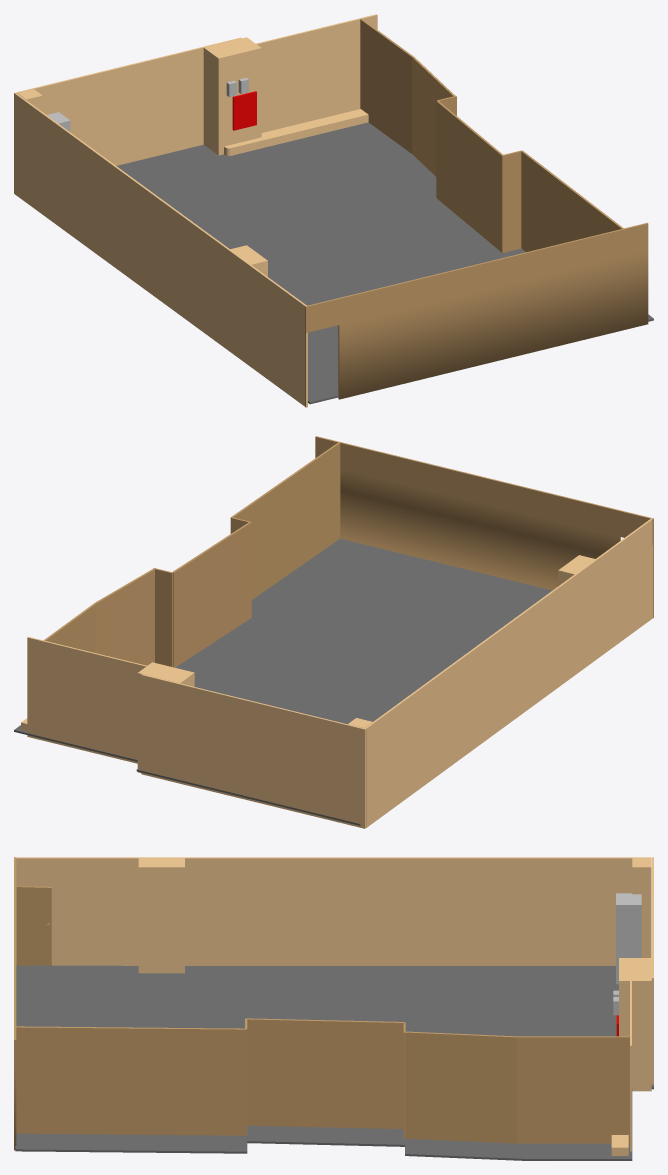
The model's file is office.fbx.
3 renders of one model, top to bottom at view 1: azimuth 30°, elevation 25°; view 2: azimuth 150°, elevation 25°; view 3: azimuth 270°, elevation 25°, orthographic. The views are drawn at different scales.
Visible parts, largest first — view 1: Line001, Box002, Box001, Box003, Box014, Box007, Box009, Box004, Box012, Box005, Rectangle001, Box008 (+1 smaller); view 2: Line001, Box001, Box002, Box003, Box014, Box009, Box007, Box005, Box006, Box004, Box012; view 3: Box001, Line001, Box009, Box007, Box004, Box005, Box011, Box012, Box018, Box013, Box010, Box002 (+1 smaller).
Boxes of the visible parts, x1,y1,x2,y2 form: Line001: (117, 122, 653, 404); Box002: (305, 222, 648, 407); Box001: (15, 93, 307, 407); Box003: (14, 37, 241, 193); Box014: (241, 14, 377, 132); Box007: (436, 101, 502, 252); Box009: (521, 150, 623, 252); Box004: (360, 18, 413, 153); Box012: (203, 37, 261, 155); Box005: (412, 56, 455, 176); Rectangle001: (224, 109, 368, 155); Box008: (502, 150, 521, 252); Line001: (14, 538, 552, 825); Box001: (365, 518, 652, 827); Box002: (315, 436, 653, 618); Box003: (141, 674, 365, 828); Box014: (27, 636, 160, 763); Box009: (230, 442, 340, 599); Box007: (172, 522, 251, 667); Box005: (95, 568, 154, 665); Box006: (153, 568, 172, 667); Box004: (43, 603, 96, 652); Box012: (137, 662, 194, 772); Box001: (14, 857, 651, 965); Line001: (15, 965, 653, 1160); Box009: (16, 1026, 246, 1135); Box007: (245, 1018, 403, 1129); Box004: (516, 1036, 630, 1143); Box005: (405, 1031, 516, 1143); Box011: (138, 858, 184, 973); Box012: (619, 958, 651, 1091); Box018: (16, 886, 51, 965); Box013: (616, 893, 641, 984); Box010: (632, 858, 651, 957); Box002: (14, 857, 16, 1150).
Bounding box in the file's own units: 1039 × 273 × 1436.
